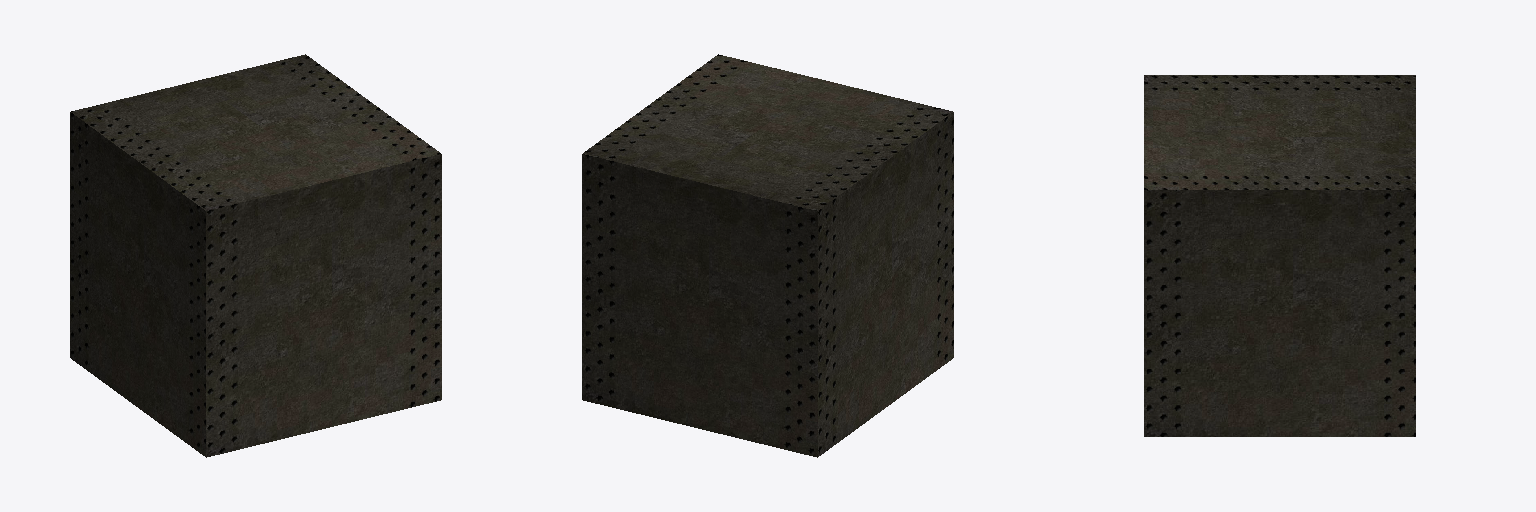
3 views of the same model, side by side, from view 1: azimuth 30°, elevation 25°; view 2: azimuth 150°, elevation 25°; view 3: azimuth 270°, elevation 25° (orthographic).
Visible parts, largest first — view 1: pCube1; view 2: pCube1; view 3: pCube1.
Part boxes in pixels (bbox=[...]): pCube1: bbox=[70, 54, 441, 457]; pCube1: bbox=[582, 54, 953, 457]; pCube1: bbox=[1144, 75, 1415, 436].
Size of the model in its own units: 1 by 1 by 1.
1 materials, 1 textured.